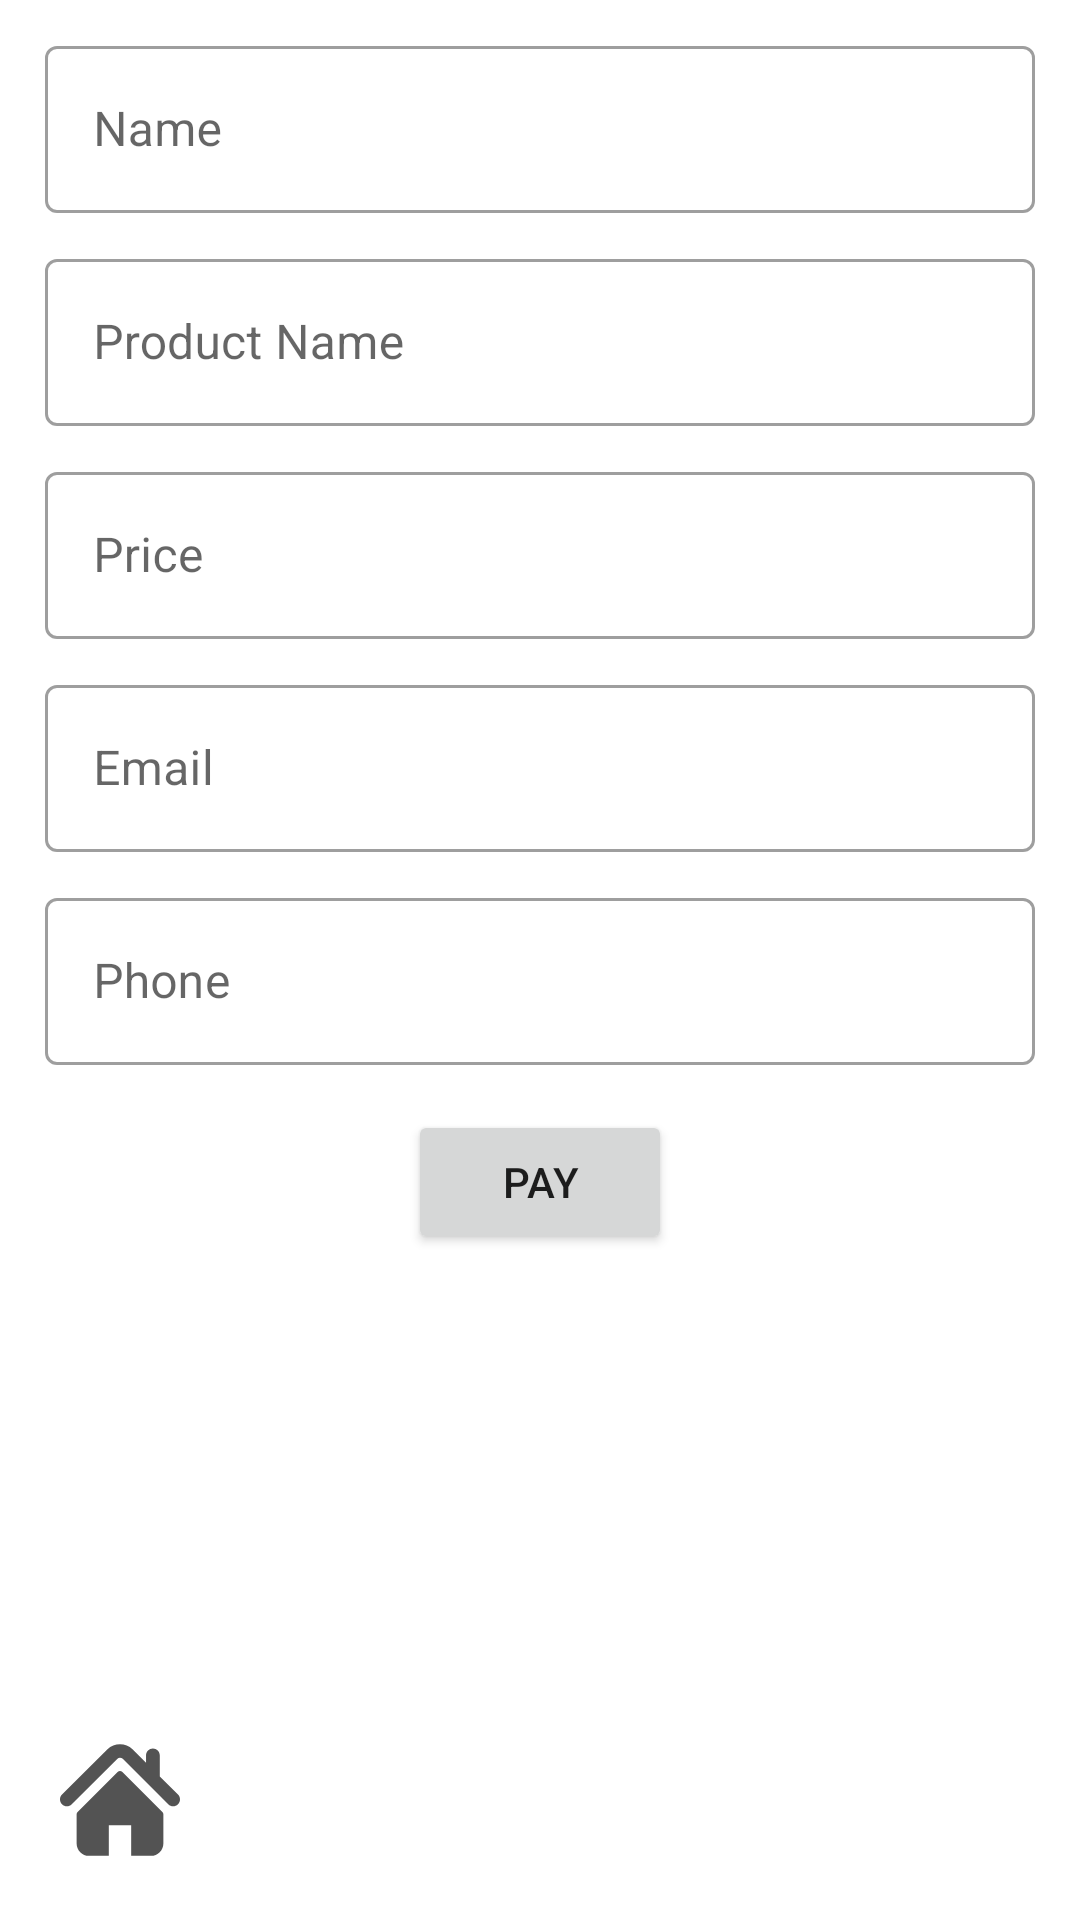

Icon bounding boxes for this 1080x1920 phone screenshot, format (x1, y1, x2, y2):
home: (60, 1744, 180, 1856)
